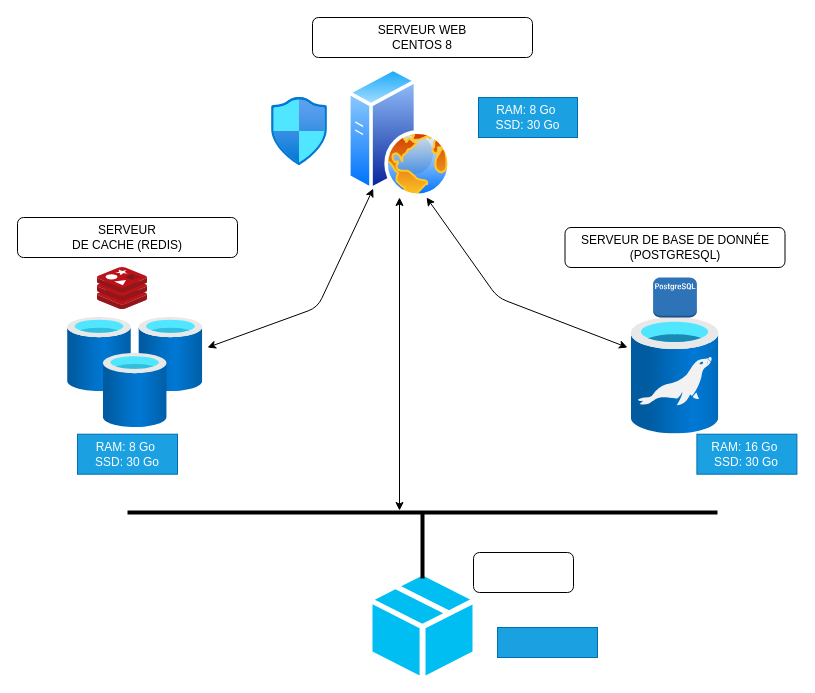
Some shapes in this 815 by 693 pixel diagram are drawn without their labels. Here are the shapes that lost their labels. From the top down, the centre of each, then its label:
point 523,572: FICHIER PARTAGE
point 547,642: SSD: 50 Go
